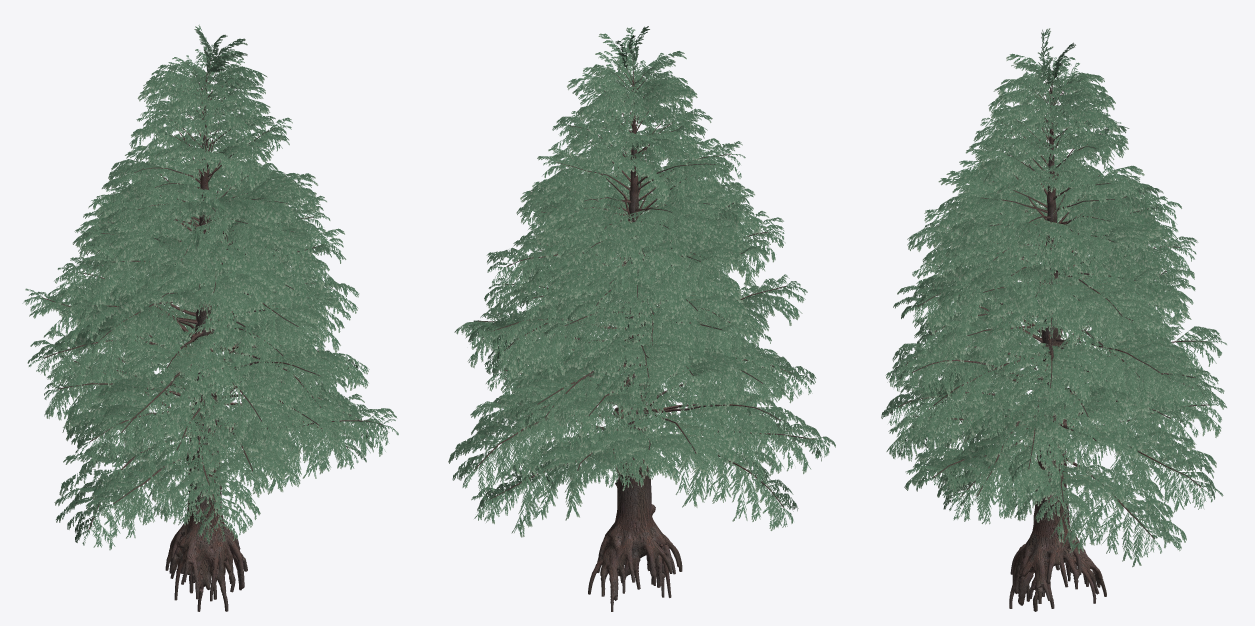
Rendered from Tsuga canadensis005_LOW.FBX.
3 renders of one model, left to right at view 1: azimuth 30°, elevation 25°; view 2: azimuth 150°, elevation 25°; view 3: azimuth 270°, elevation 25°, orthographic.
Visible parts, largest first — view 1: Tsuga canadensis005_LOW; view 2: Tsuga canadensis005_LOW; view 3: Tsuga canadensis005_LOW.
Part boxes in pixels (<box>): Tsuga canadensis005_LOW: <box>22,24,398,611</box>; Tsuga canadensis005_LOW: <box>448,26,835,611</box>; Tsuga canadensis005_LOW: <box>881,28,1226,611</box>.
Size of the model in its own units: 13676 by 23436 by 13281.
